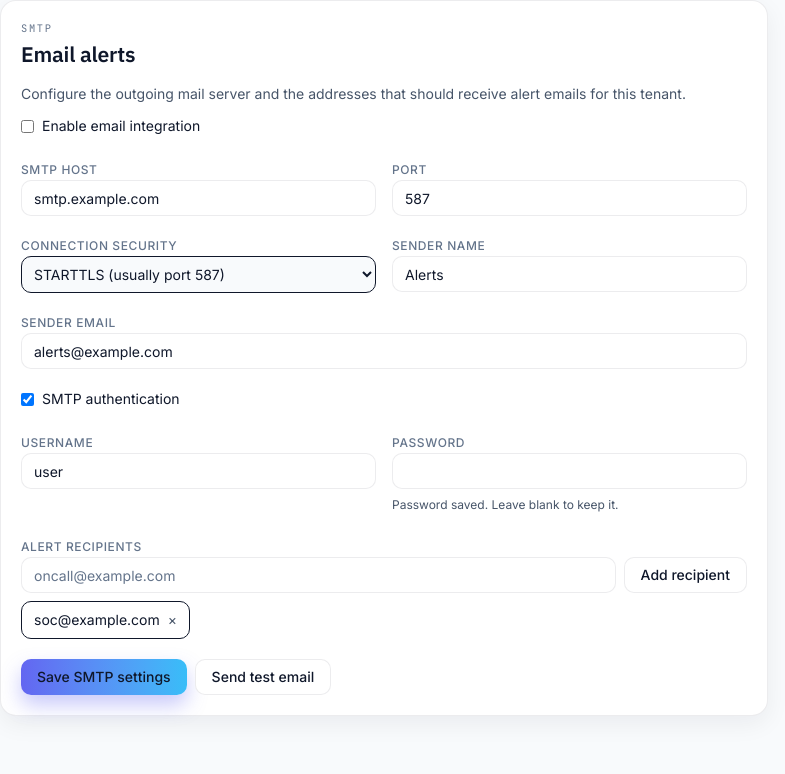
Test case: preserves a saved password without putting a placeholder in the payload
Expected: the password field labelled "Password" is empty, [392, 453, 747, 489]
Click the button "Save SMTP settings" at (104, 677), box [21, 659, 187, 695]
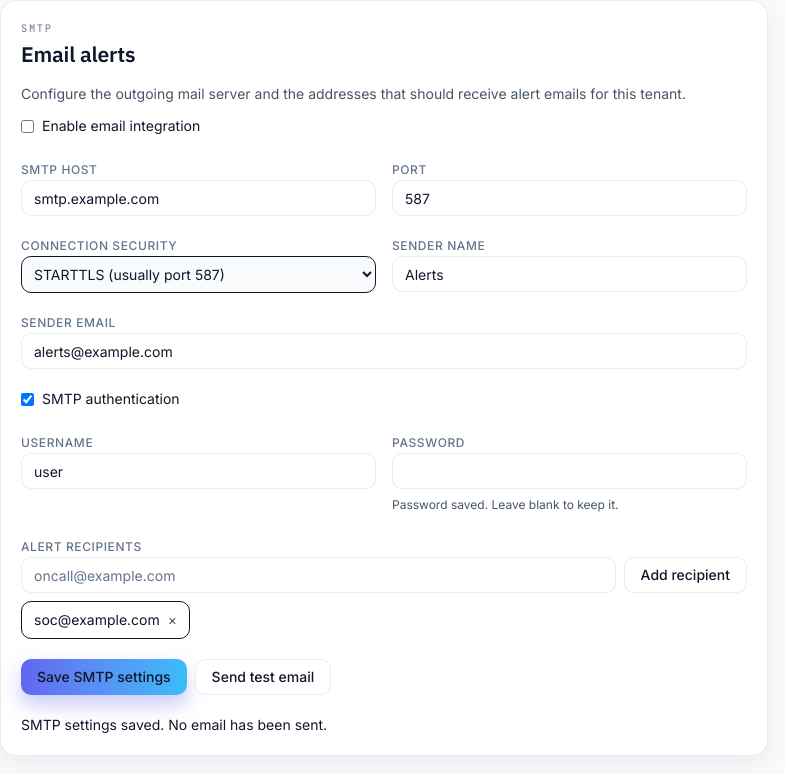
Now the text "SMTP settings saved. No email has been sent." is shown, box [21, 716, 327, 733]
